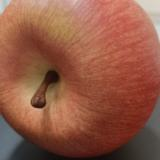apple: (1, 1, 160, 157)
